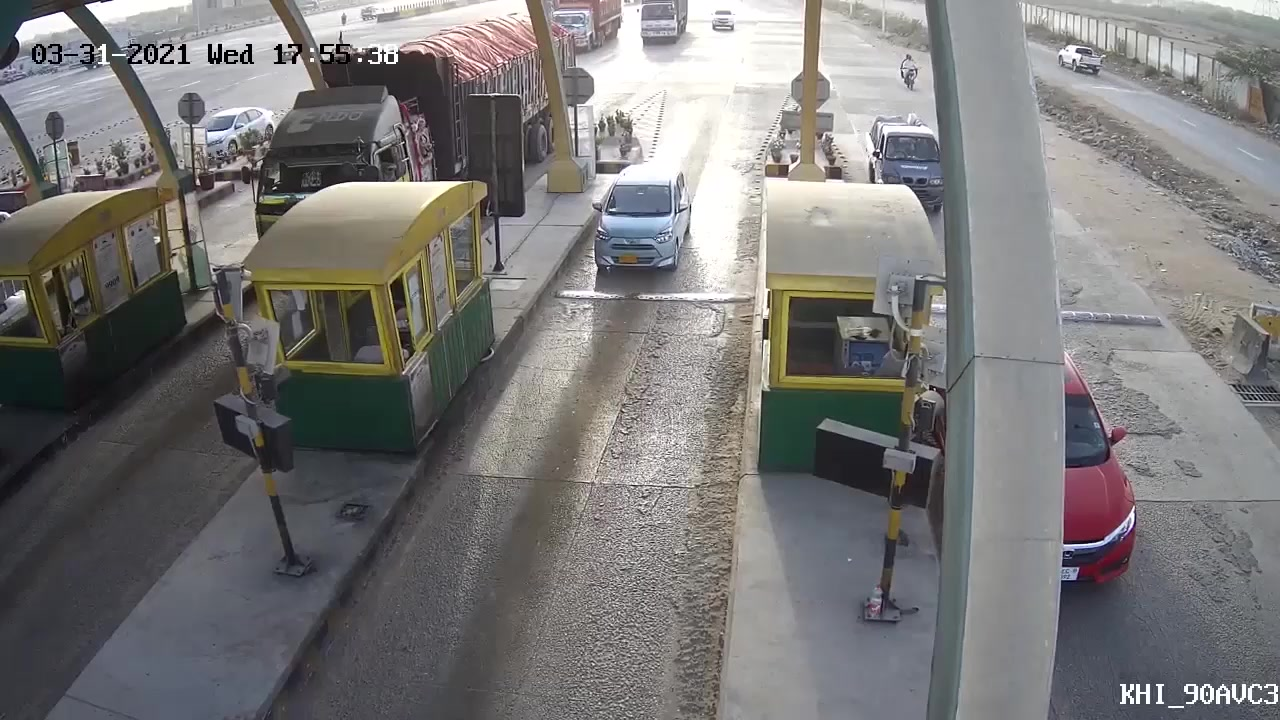F1: (585, 164, 697, 285)
